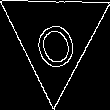O_NW: (27, 5, 82, 70)
